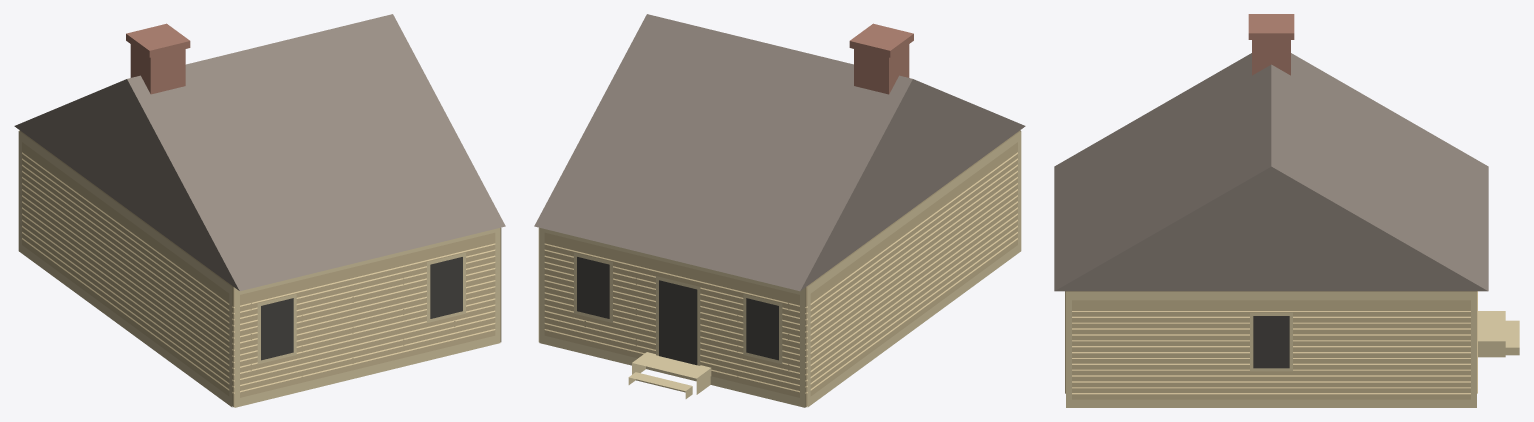
The model's file is recon_1835_blk_south_water_franklin_d5_09__inferred_1835.glb.
3 renders of one model, left to right at view 1: azimuth 30°, elevation 25°; view 2: azimuth 150°, elevation 25°; view 3: azimuth 270°, elevation 25°, orthographic. The views are drawn at different scales.
Visible parts, largest first — view 1: recon_1835_blk_south_water_franklin_d5_09__inferred_1835; view 2: recon_1835_blk_south_water_franklin_d5_09__inferred_1835; view 3: recon_1835_blk_south_water_franklin_d5_09__inferred_1835.
Boxes of the visible parts, left/top/right/bottom form: recon_1835_blk_south_water_franklin_d5_09__inferred_1835: left=14, top=14, right=505, bottom=407; recon_1835_blk_south_water_franklin_d5_09__inferred_1835: left=534, top=14, right=1025, bottom=407; recon_1835_blk_south_water_franklin_d5_09__inferred_1835: left=1054, top=14, right=1519, bottom=407.
Bounding box in the file's own units: 6.46 × 6.52 × 10.05.
